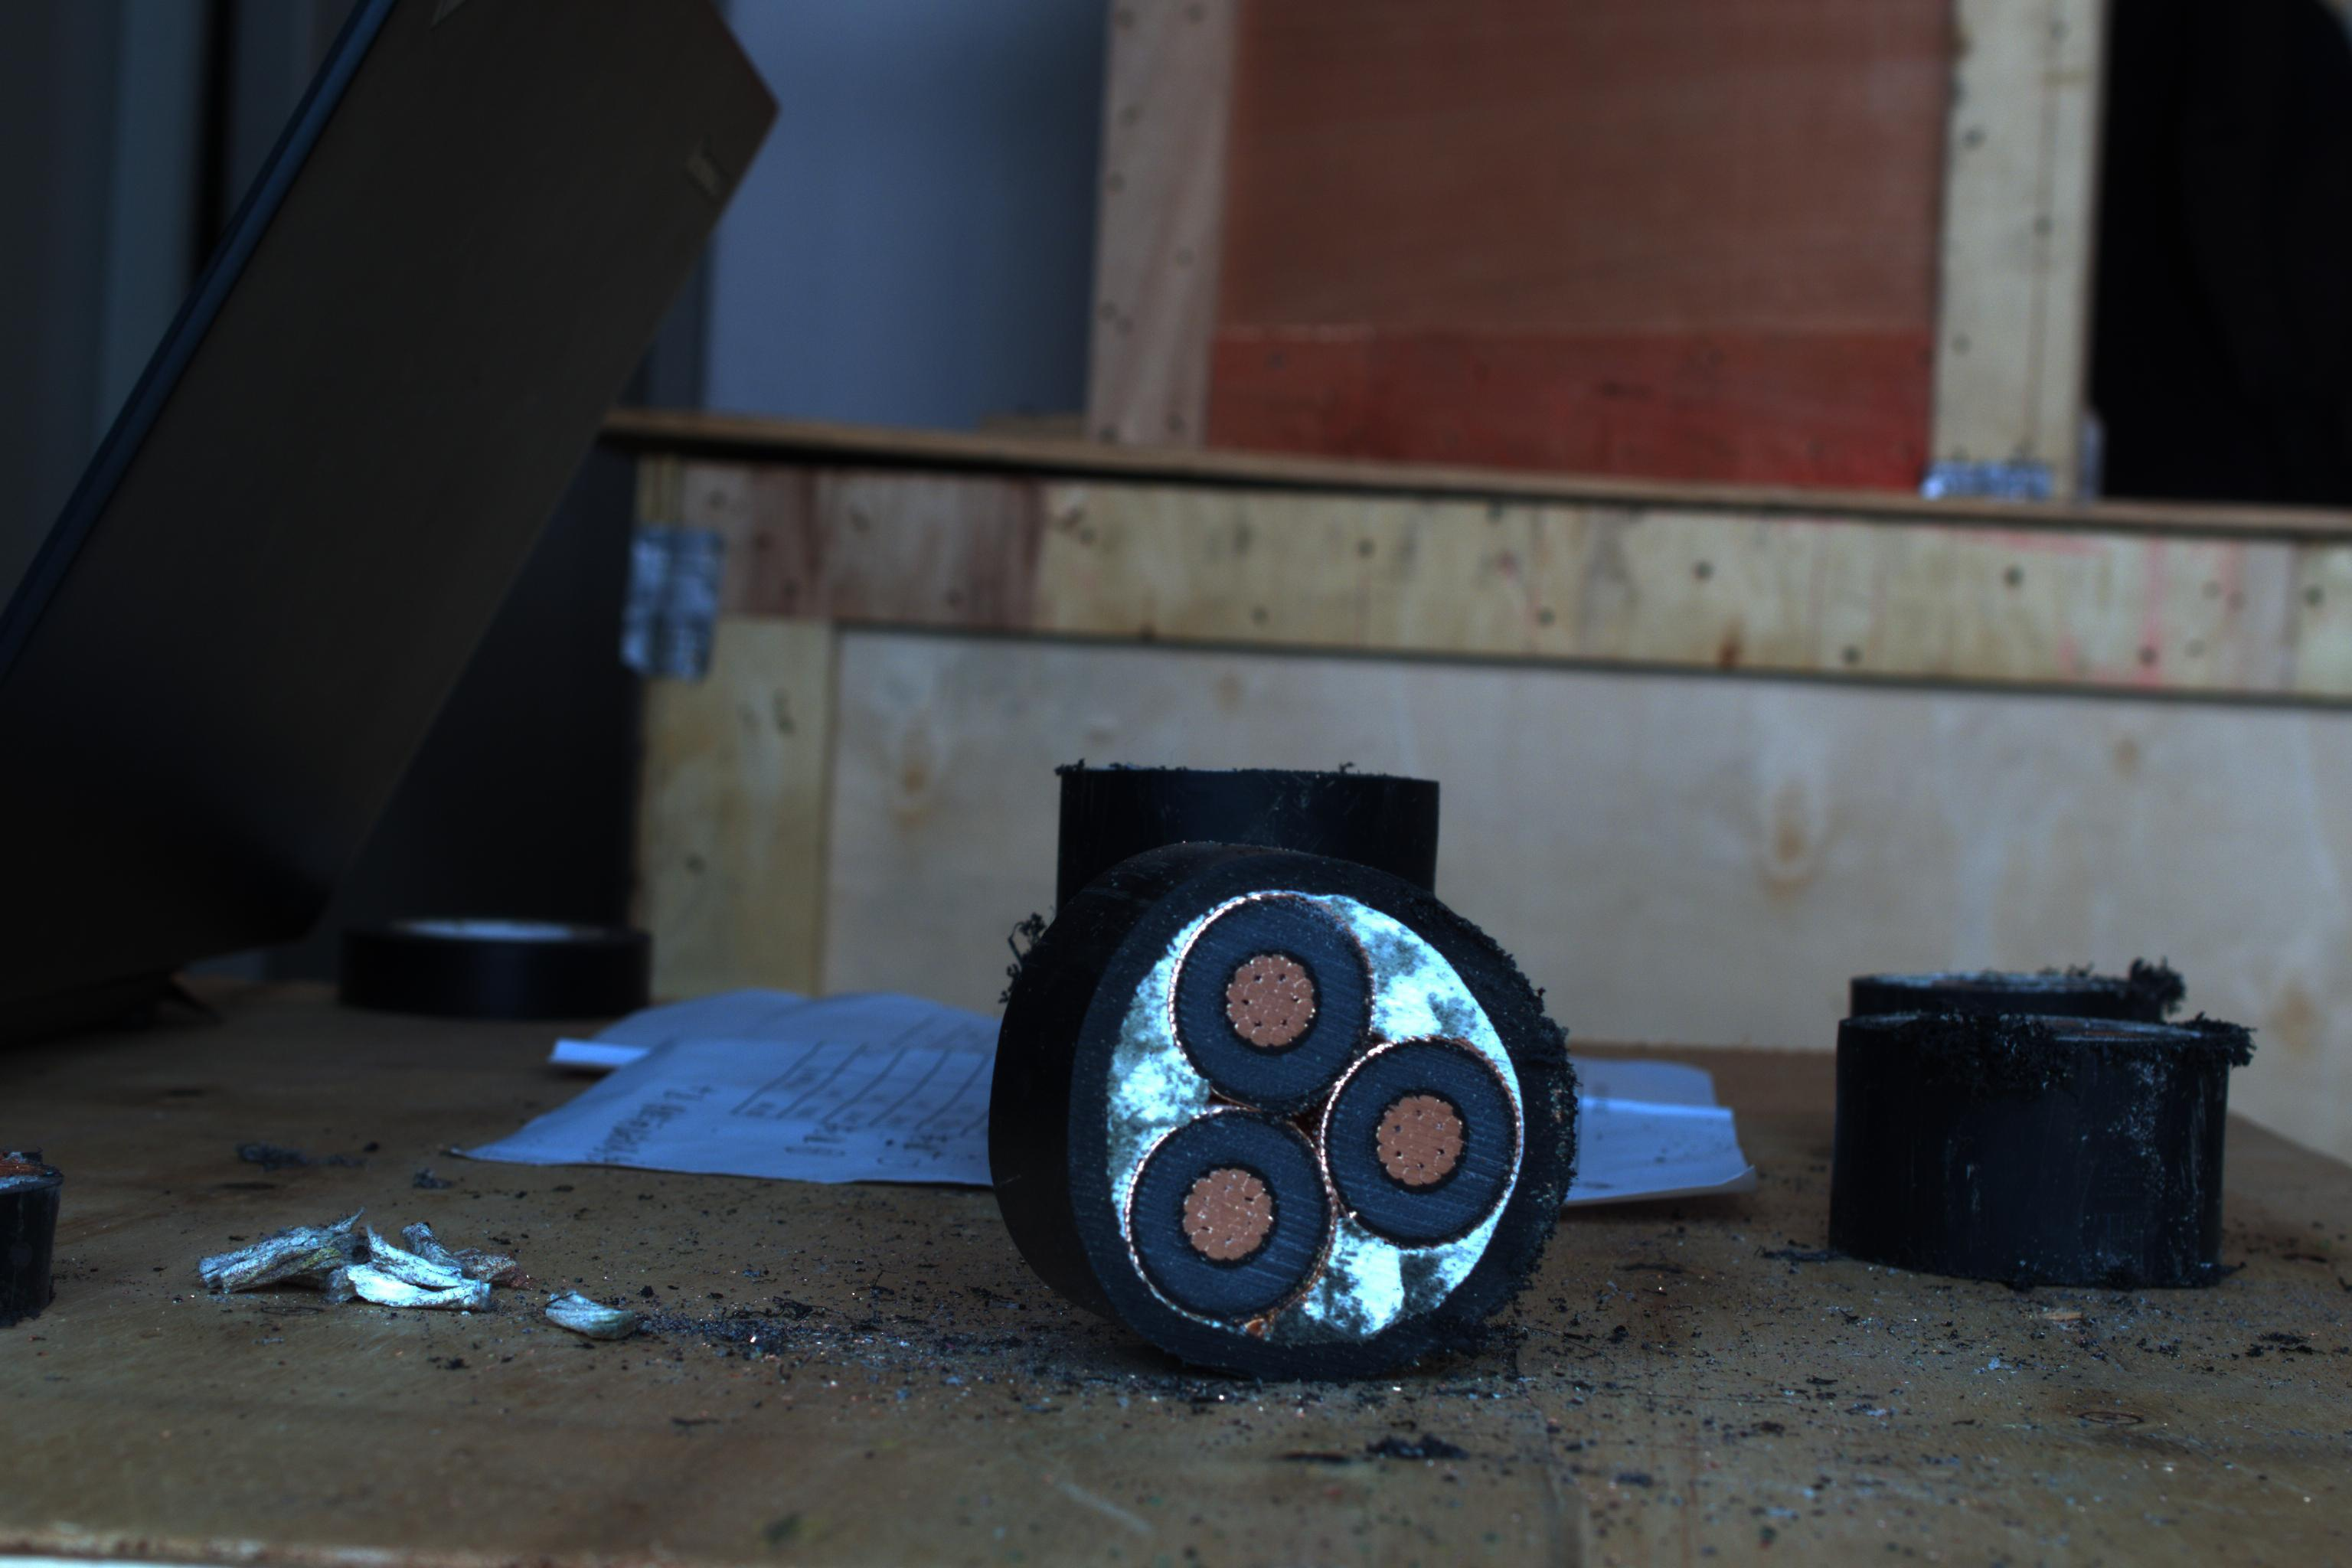YJV_8.7_10kV_3x70: (1043, 866, 1554, 1360)
